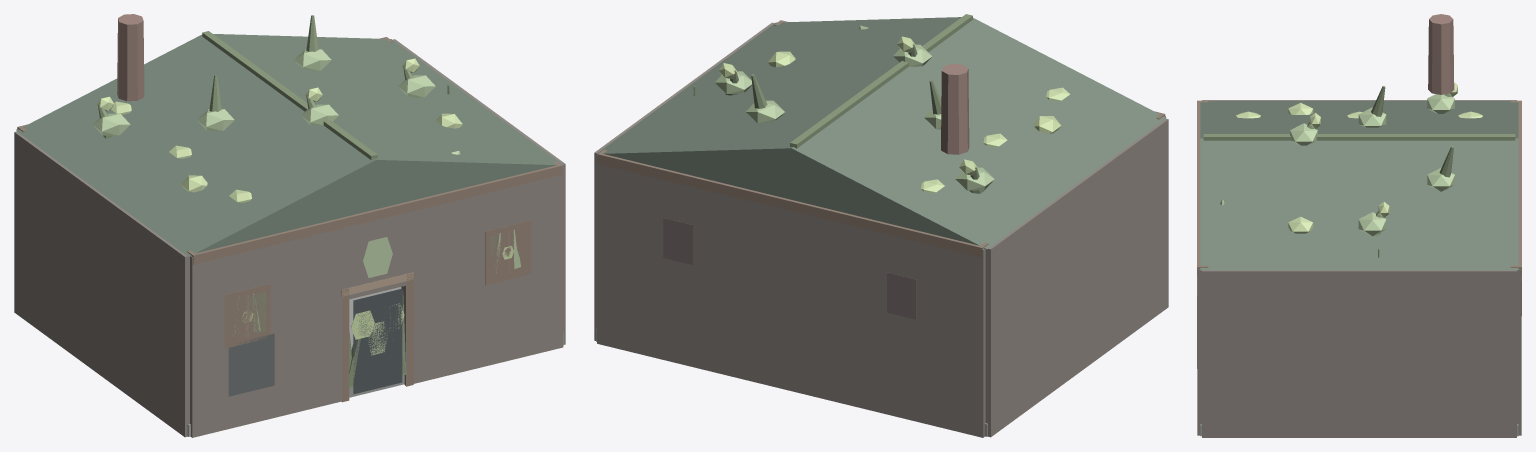
File: charcoal_workshop_infested.glb
3 renders of one model, left to right at view 1: azimuth 30°, elevation 25°; view 2: azimuth 150°, elevation 25°; view 3: azimuth 270°, elevation 25°, orthographic. The views are drawn at different scales.
Parts seen in each view (by area): view 1: charcoal_workshop_mat_01, charcoal_workshop_mat_10, charcoal_workshop_mat_02, charcoal_workshop_mat_04, charcoal_workshop_mat_08, charcoal_workshop_mat_06, charcoal_workshop_mat_05, charcoal_workshop_mat_11, charcoal_workshop_mat_12, charcoal_workshop_mat_00, charcoal_workshop_mat_03; view 2: charcoal_workshop_mat_01, charcoal_workshop_mat_10, charcoal_workshop_mat_02, charcoal_workshop_mat_06, charcoal_workshop_mat_12, charcoal_workshop_mat_09, charcoal_workshop_mat_08, charcoal_workshop_mat_05; view 3: charcoal_workshop_mat_01, charcoal_workshop_mat_10, charcoal_workshop_mat_06, charcoal_workshop_mat_08, charcoal_workshop_mat_12, charcoal_workshop_mat_02, charcoal_workshop_mat_05.
Boxes of the visible parts, x1=… form: charcoal_workshop_mat_01: x1=14, y1=39, x2=565, y2=437; charcoal_workshop_mat_10: x1=16, y1=34, x2=563, y2=256; charcoal_workshop_mat_02: x1=17, y1=37, x2=562, y2=402; charcoal_workshop_mat_04: x1=353, y1=288, x2=402, y2=394; charcoal_workshop_mat_08: x1=93, y1=49, x2=520, y2=334; charcoal_workshop_mat_06: x1=98, y1=15, x2=501, y2=388; charcoal_workshop_mat_05: x1=96, y1=58, x2=513, y2=355; charcoal_workshop_mat_11: x1=228, y1=333, x2=274, y2=396; charcoal_workshop_mat_12: x1=117, y1=14, x2=144, y2=101; charcoal_workshop_mat_00: x1=187, y1=287, x2=563, y2=436; charcoal_workshop_mat_03: x1=341, y1=272, x2=413, y2=296; charcoal_workshop_mat_01: x1=594, y1=22, x2=1168, y2=437; charcoal_workshop_mat_10: x1=596, y1=17, x2=1166, y2=249; charcoal_workshop_mat_02: x1=597, y1=20, x2=1165, y2=421; charcoal_workshop_mat_06: x1=693, y1=14, x2=984, y2=193; charcoal_workshop_mat_12: x1=941, y1=64, x2=969, y2=154; charcoal_workshop_mat_09: x1=663, y1=218, x2=916, y2=319; charcoal_workshop_mat_08: x1=715, y1=25, x2=994, y2=190; charcoal_workshop_mat_05: x1=718, y1=36, x2=1069, y2=192; charcoal_workshop_mat_01: x1=1197, y1=100, x2=1521, y2=437; charcoal_workshop_mat_10: x1=1200, y1=101, x2=1518, y2=270; charcoal_workshop_mat_06: x1=1203, y1=86, x2=1515, y2=257; charcoal_workshop_mat_08: x1=1220, y1=94, x2=1454, y2=236; charcoal_workshop_mat_12: x1=1428, y1=14, x2=1454, y2=94; charcoal_workshop_mat_02: x1=1197, y1=100, x2=1521, y2=368; charcoal_workshop_mat_05: x1=1236, y1=82, x2=1482, y2=233.
Size of the model in its own units: 4.97 by 3.81 by 3.98.
